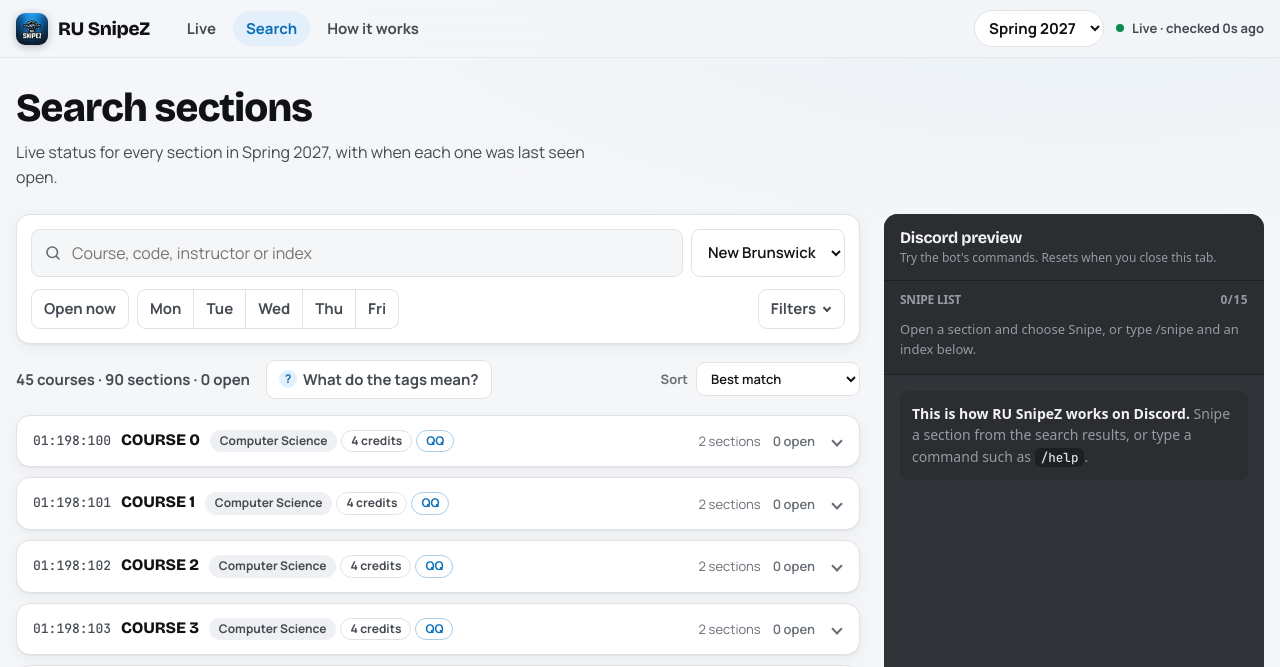
it: search results › collapses courses into summaries and pages through them
Expected: the text "45 courses · 90 sections · 0 open" is shown, [16,368,250,391]
Expected: the 1st text "2 sections" is shown, [698,431,761,451]
Click the button that starts with "COURSE 0": [438, 441] box [17,416,859,466]
(page scrolled)
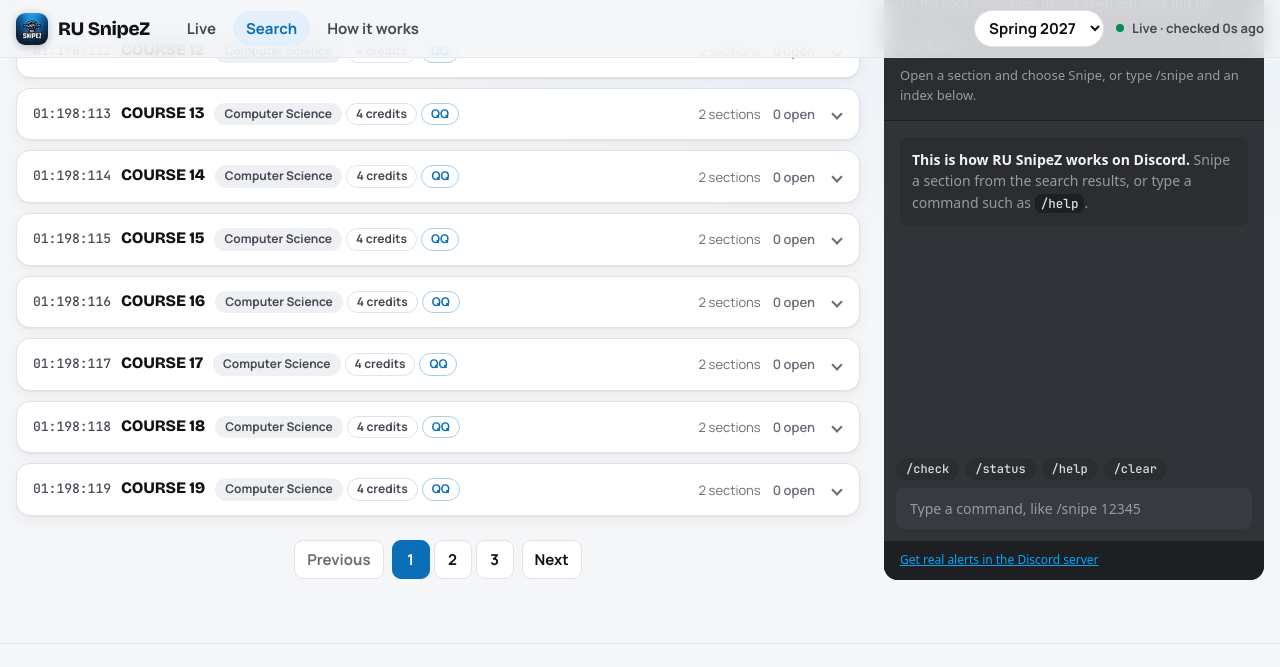
Click the button named "Page 3": [494, 560] box [476,540,514,579]
(page scrolled)
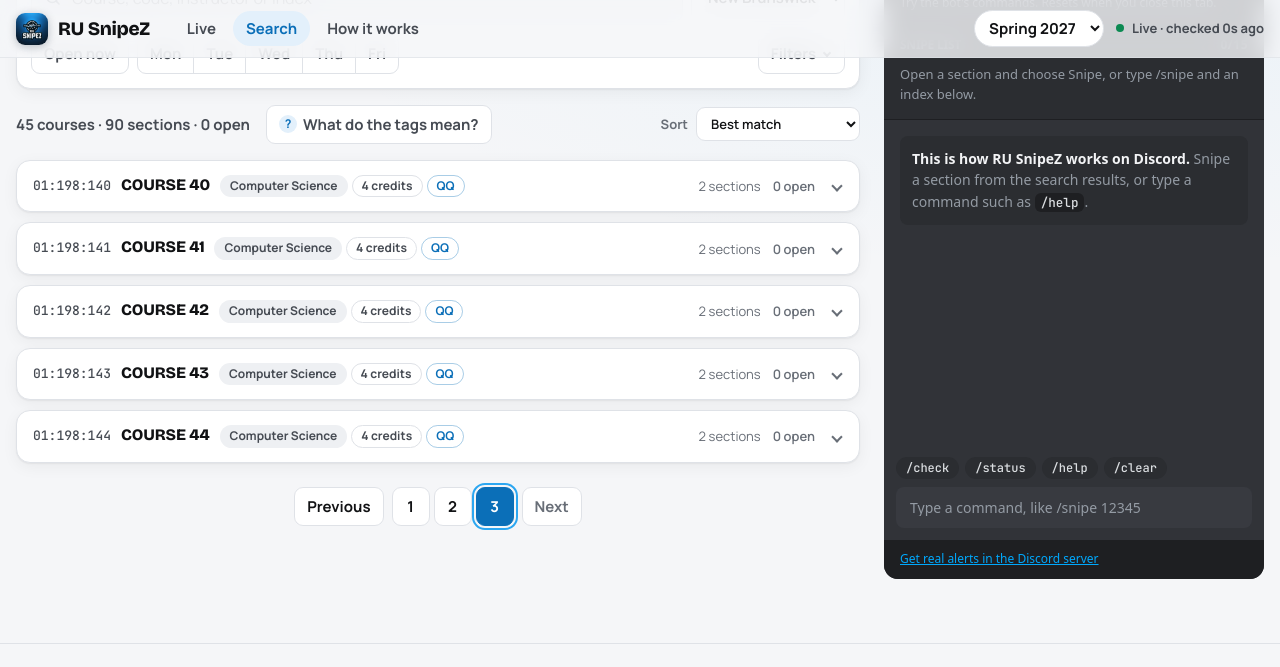
Now the button "Next" is disabled, box [522,487,582,526]
